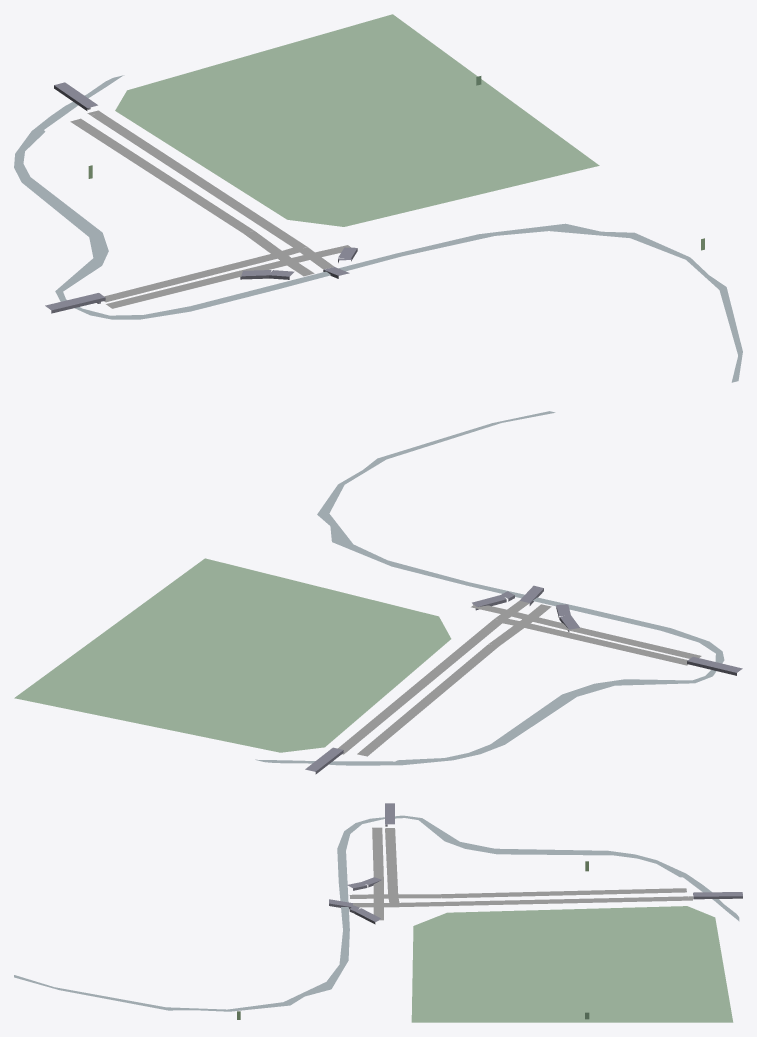
3 views of the same model, one above another, from view 1: azimuth 30°, elevation 25°; view 2: azimuth 150°, elevation 25°; view 3: azimuth 270°, elevation 25° (orthographic). The views are drawn at different scales.
Size of the model in its own units: 350 by 10.47 by 502.
